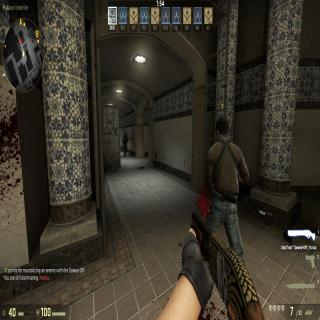CT-Body: (122, 132, 128, 157)
CT-Head: (124, 132, 128, 136)
T-Body: (206, 115, 243, 257)
T-Head: (214, 116, 230, 146)
